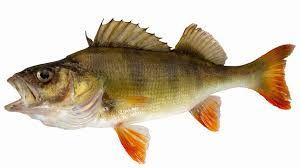Perch: (5, 14, 299, 165)
